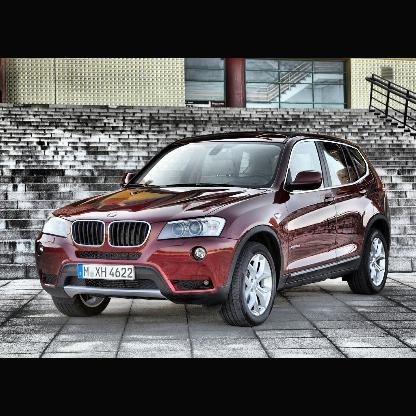BMW X3 SUV 2012: (34, 130, 394, 325)
